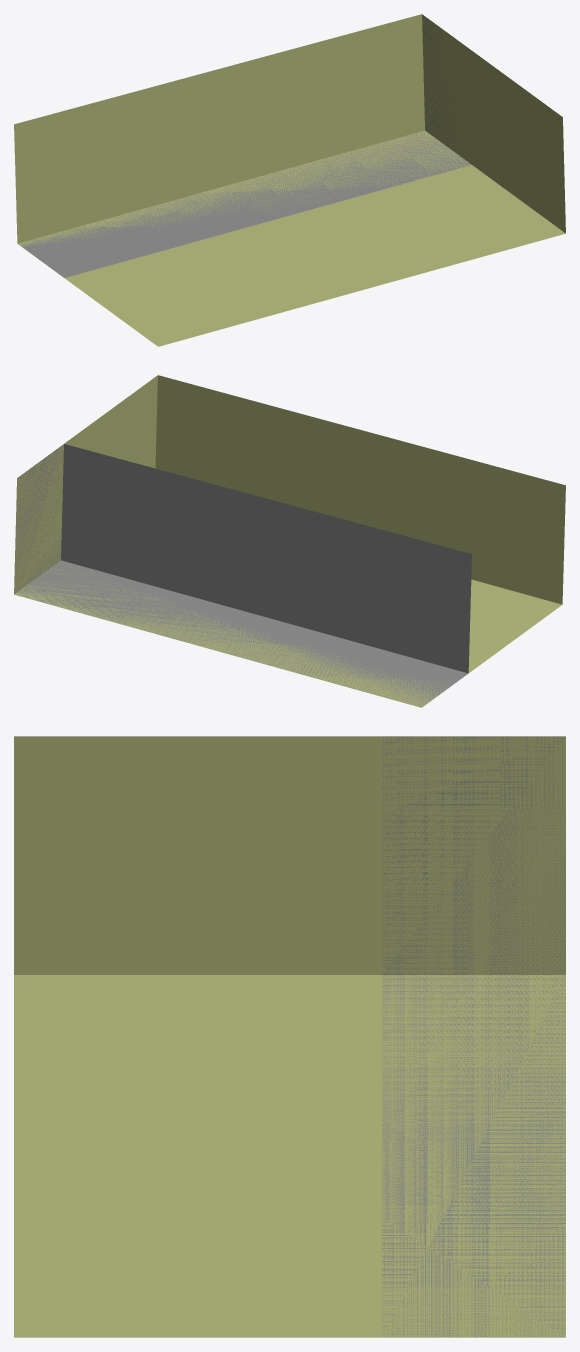
3 renders of one model, top to bottom at view 1: azimuth 30°, elevation 25°; view 2: azimuth 150°, elevation 25°; view 3: azimuth 270°, elevation 25°, orthographic. The views are drawn at different scales.
Parts seen in each view (by area): view 1: 0_1_2_0_3_0_2_3_1_3; view 2: 0_1_2_0_3_0_2_3_1_3; view 3: 0_1_2_0_3_0_2_3_1_3.
Part boxes in pixels (x1,y1,x2,y2): 0_1_2_0_3_0_2_3_1_3: [14, 14, 565, 346]; 0_1_2_0_3_0_2_3_1_3: [14, 375, 565, 707]; 0_1_2_0_3_0_2_3_1_3: [14, 736, 565, 1337].
Size of the model in its own units: 15.16 by 4.61 by 9.
